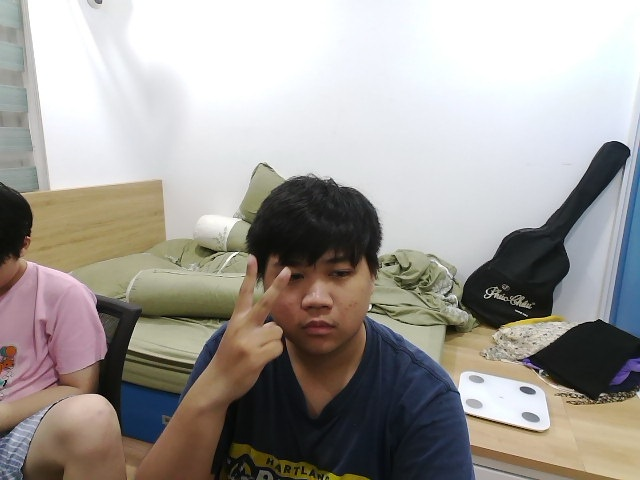face: (243, 175, 384, 354)
